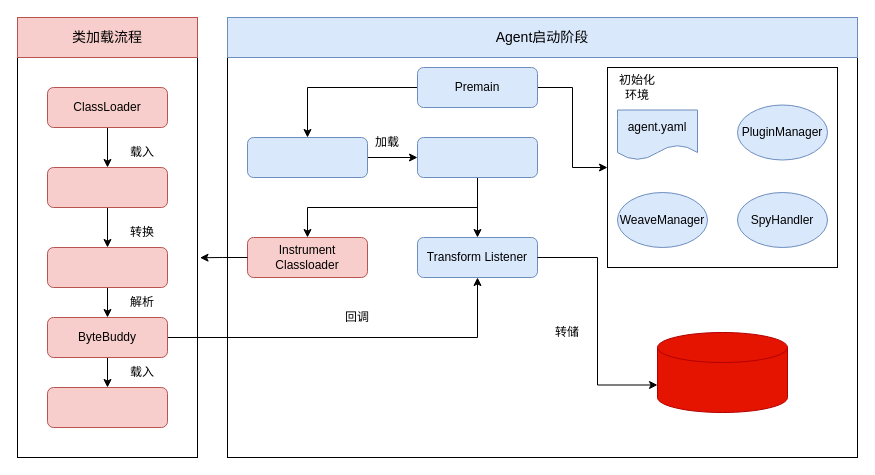
This 875x475 diagram has some shape labels left out. Each missing label, with the box of its shape:
AgentCore: (416, 136, 538, 178)
Class字节码: (46, 166, 168, 208)
CoreLauncher: (246, 136, 368, 178)
JVM: (46, 386, 168, 428)
Transformer: (46, 246, 168, 288)
未知类文件: (656, 332, 788, 412)
